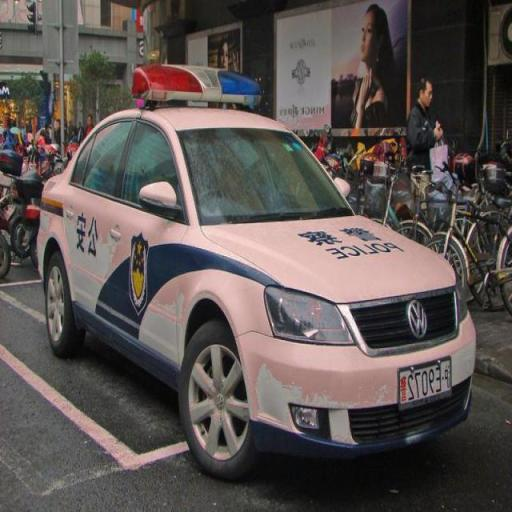Ambulance: (34, 55, 488, 467)
